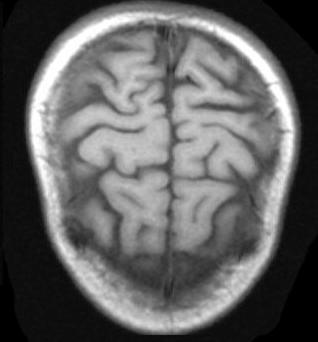Normal_Brain: (1, 1, 314, 342)
